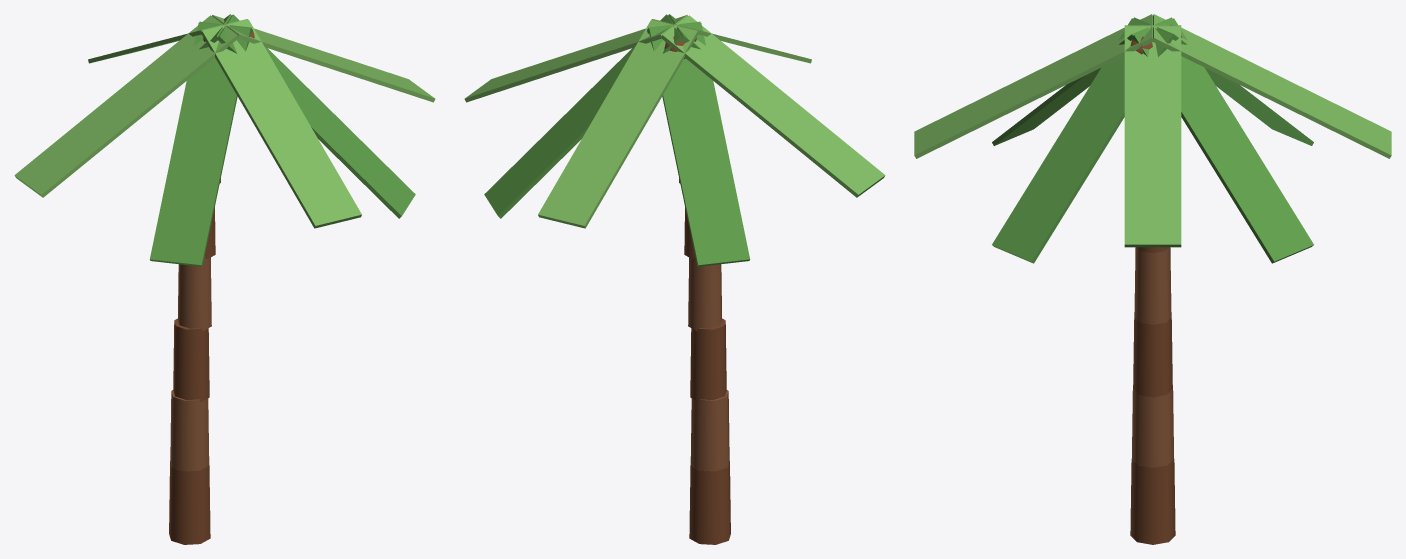
Rendered from palm-01.glb.
3 renders of one model, left to right at view 1: azimuth 30°, elevation 25°; view 2: azimuth 150°, elevation 25°; view 3: azimuth 270°, elevation 25°, orthographic. The views are drawn at different scales.
Parts seen in each view (by area): view 1: Fronds, Trunk; view 2: Fronds, Trunk; view 3: Fronds, Trunk.
Part boxes in pixels (box(x1,y1,x2,y2)): Fronds: box(14, 14, 435, 266); Trunk: box(169, 38, 220, 544); Fronds: box(464, 14, 885, 266); Trunk: box(679, 38, 730, 544); Fronds: box(914, 14, 1391, 263); Trunk: box(1130, 247, 1175, 544).
Bounding box in the file's own units: 4.23 × 5.16 × 4.23.
